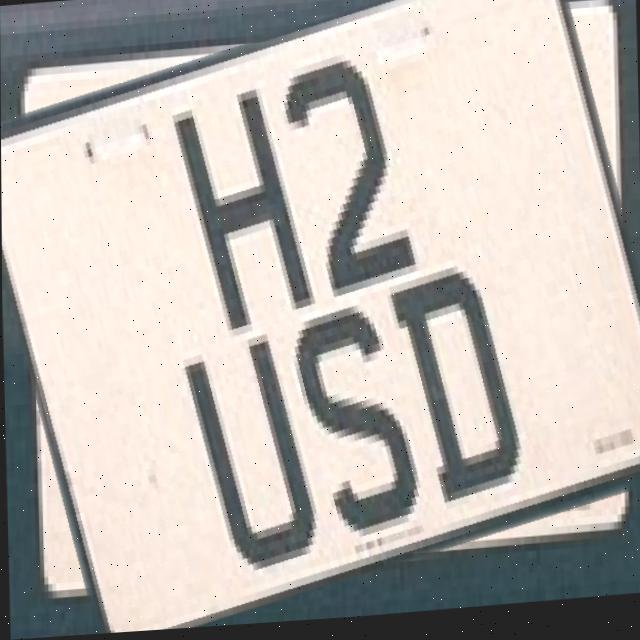LicensePlate: (0, 0, 640, 633)
